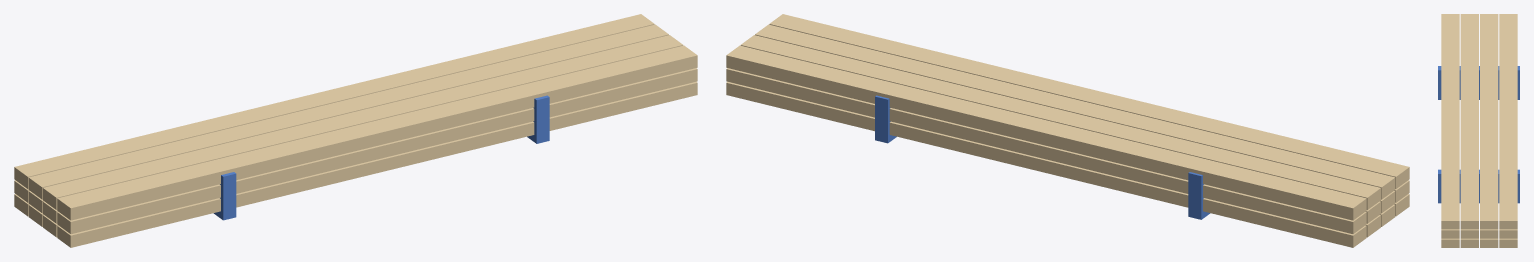
The model's file is lumber_bundle.glb.
3 renders of one model, left to right at view 1: azimuth 30°, elevation 25°; view 2: azimuth 150°, elevation 25°; view 3: azimuth 270°, elevation 25°, orthographic. The views are drawn at different scales.
Parts seen in each view (by area): view 1: lumber_bundle; view 2: lumber_bundle; view 3: lumber_bundle.
Part boxes in pixels (left/top/right/bottom): lumber_bundle: left=14, top=14, right=697, bottom=247; lumber_bundle: left=726, top=14, right=1409, bottom=247; lumber_bundle: left=1438, top=14, right=1519, bottom=247.
Bounding box in the file's own units: 2.4 × 0.1725 × 0.4.
